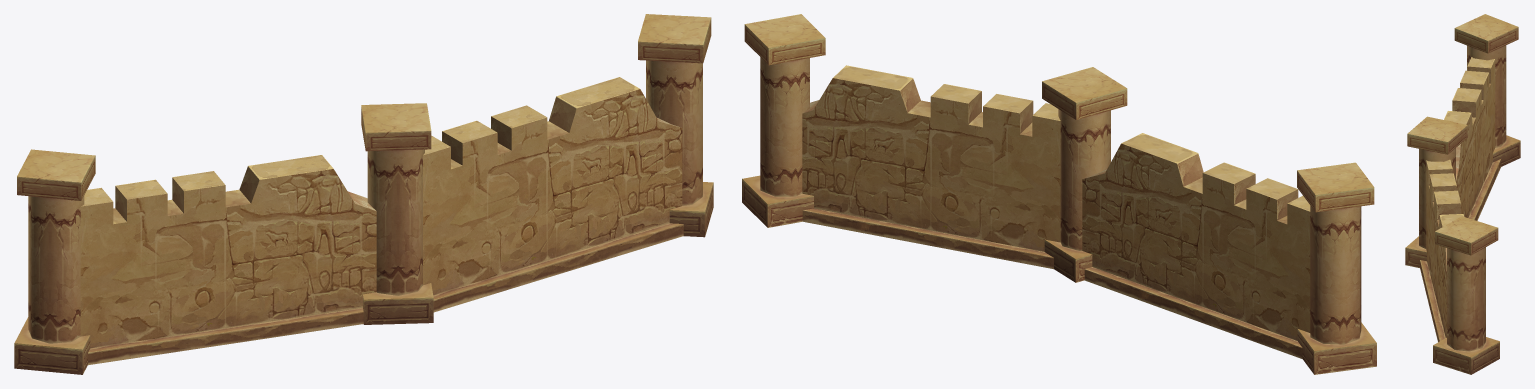
The model's file is Area_11_18.fbx.
3 views of the same model, side by side, from view 1: azimuth 30°, elevation 25°; view 2: azimuth 150°, elevation 25°; view 3: azimuth 270°, elevation 25° (orthographic). The views are drawn at different scales.
Visible parts, largest first — view 1: Area_11_18; view 2: Area_11_18; view 3: Area_11_18.
Boxes of the visible parts, bbox=[...] form: Area_11_18: bbox=[14, 14, 713, 374]; Area_11_18: bbox=[742, 14, 1376, 374]; Area_11_18: bbox=[1405, 14, 1520, 374].
Bounding box in the file's own units: 1543 × 409 × 326.
